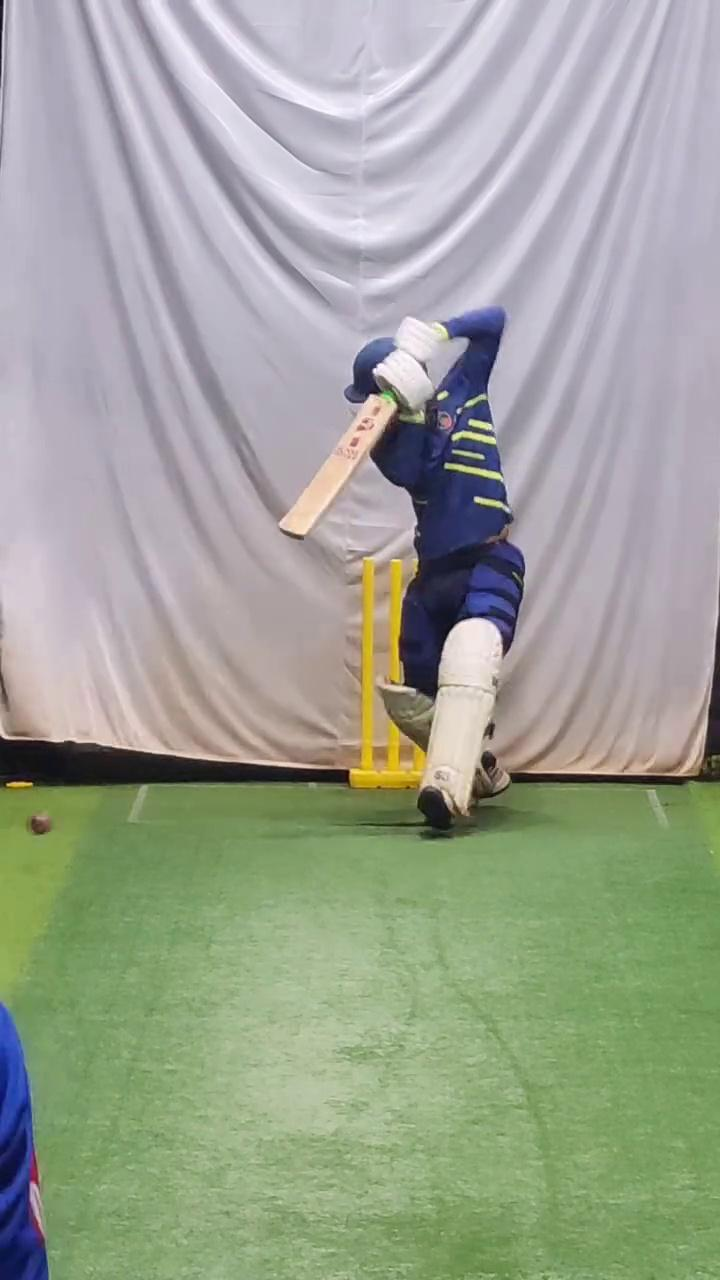bat: (274, 386, 400, 550)
